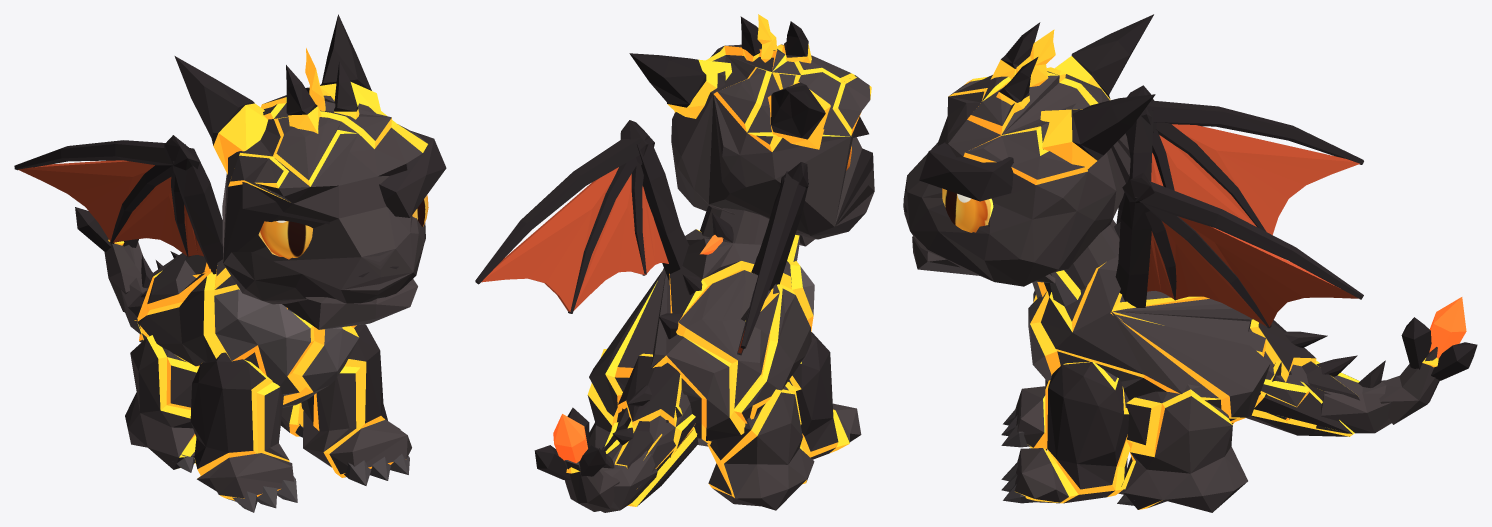
Rendered from ember_baby.glb.
3 renders of one model, left to right at view 1: azimuth 30°, elevation 25°; view 2: azimuth 150°, elevation 25°; view 3: azimuth 270°, elevation 25°, orthographic. The views are drawn at different scales.
Visible parts, largest first — view 1: head, body, wing_R_tip, leg_FR, leg_FL, leg_BR, wing_R, jaw, tail_4, tail_3, leg_BL; view 2: head, body, wing_L_tip, leg_BR, leg_FR, tail_1, tail_4, wing_L, wing_R_tip, tail_2, neck, tail_3 (+2 smaller); view 3: head, body, wing_R_tip, wing_L_tip, leg_FL, leg_BL, tail_4, tail_2, tail_1, wing_L, tail_3, neck (+3 smaller).
Part boxes in pixels (bbox=[...]): head: bbox=[174, 14, 446, 304]; body: bbox=[137, 253, 359, 407]; wing_R_tip: bbox=[14, 135, 199, 256]; leg_FR: bbox=[190, 352, 297, 512]; leg_FL: bbox=[300, 324, 411, 485]; leg_BR: bbox=[125, 335, 198, 472]; wing_R: bbox=[172, 148, 222, 274]; jaw: bbox=[282, 279, 417, 329]; tail_4: bbox=[75, 207, 153, 312]; tail_3: bbox=[121, 254, 152, 334]; leg_BL: bbox=[280, 403, 303, 437]; head: bbox=[629, 14, 874, 239]; body: bbox=[589, 213, 814, 446]; wing_L_tip: bbox=[475, 120, 655, 313]; leg_BR: bbox=[707, 382, 814, 510]; leg_FR: bbox=[788, 332, 861, 459]; tail_1: bbox=[611, 353, 697, 462]; tail_4: bbox=[534, 407, 619, 511]; wing_L: bbox=[637, 136, 689, 280]; wing_R_tip: bbox=[737, 162, 808, 355]; tail_2: bbox=[603, 393, 698, 506]; neck: bbox=[700, 206, 799, 261]; tail_3: bbox=[599, 443, 657, 512]; head: bbox=[903, 14, 1155, 286]; body: bbox=[1028, 222, 1270, 423]; wing_R_tip: bbox=[1127, 85, 1363, 234]; wing_L_tip: bbox=[1122, 172, 1363, 328]; leg_FL: bbox=[1001, 361, 1130, 503]; leg_BL: bbox=[1117, 384, 1247, 512]; tail_4: bbox=[1379, 297, 1477, 424]; tail_2: bbox=[1246, 355, 1359, 436]; tail_1: bbox=[1248, 319, 1327, 420]; wing_L: bbox=[1115, 195, 1161, 307]; tail_3: bbox=[1314, 360, 1391, 433]; neck: bbox=[1032, 219, 1119, 306].
Size of the model in its own units: 2.18 by 3.22 by 3.85.
11 materials, 1 textured.
